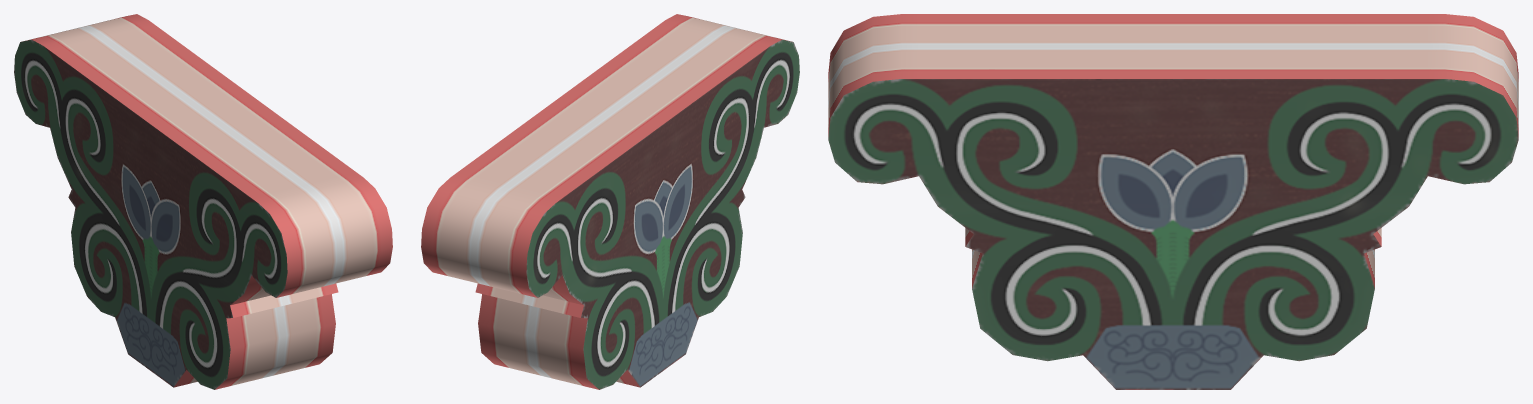
The model's file is SM_CGJ_FlowerBracket01a.fbx.
3 views of the same model, side by side, from view 1: azimuth 30°, elevation 25°; view 2: azimuth 150°, elevation 25°; view 3: azimuth 270°, elevation 25° (orthographic). The views are drawn at different scales.
Visible parts, largest first — view 1: SM_CGJ_FlowerBracket01a; view 2: SM_CGJ_FlowerBracket01a; view 3: SM_CGJ_FlowerBracket01a.
Boxes of the visible parts, x1=… form: SM_CGJ_FlowerBracket01a: x1=14, y1=14, x2=392, y2=389; SM_CGJ_FlowerBracket01a: x1=421, y1=14, x2=799, y2=389; SM_CGJ_FlowerBracket01a: x1=828, y1=14, x2=1518, y2=389.
Bounding box in the file's own units: 11.17 × 50.29 × 25.
1 material, 1 textured.
